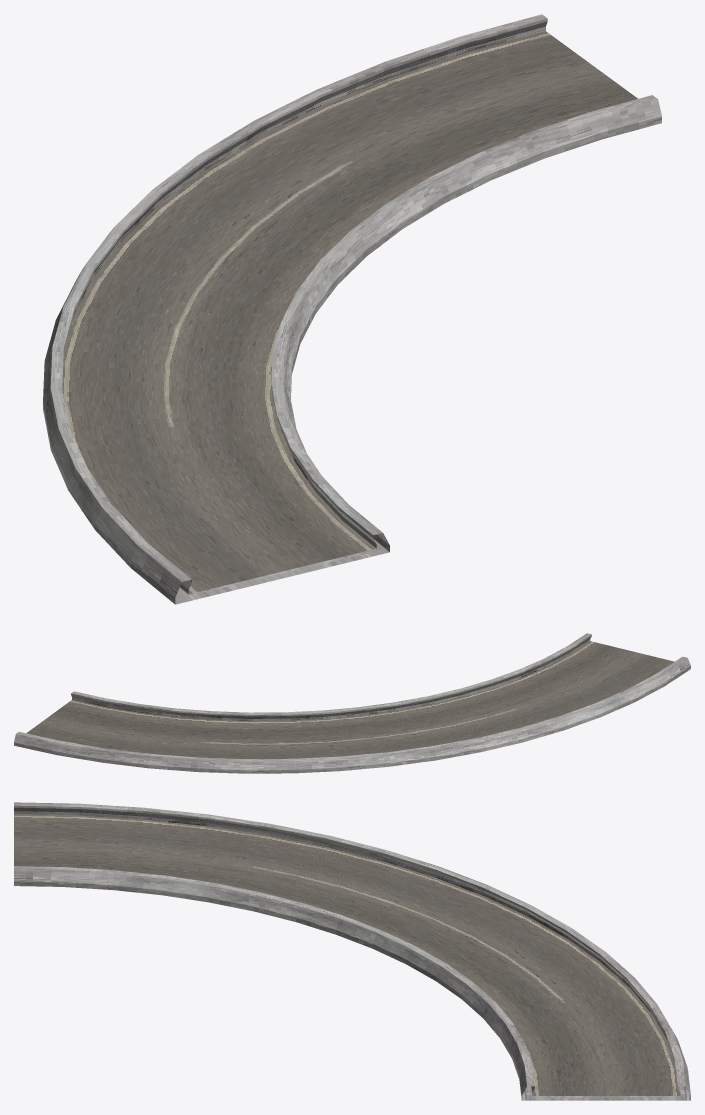
File: road-Turn-Flat-Flat-Even-Right-Size4.glb
3 renders of one model, top to bottom at view 1: azimuth 30°, elevation 25°; view 2: azimuth 150°, elevation 25°; view 3: azimuth 270°, elevation 25°, orthographic. The views are drawn at different scales.
Parts seen in each view (by area): view 1: road-Turn-Flat-Flat-Even-Right-Size4; view 2: road-Turn-Flat-Flat-Even-Right-Size4; view 3: road-Turn-Flat-Flat-Even-Right-Size4.
Part boxes in pixels (x1,y1,x2,y2): road-Turn-Flat-Flat-Even-Right-Size4: (43, 14, 661, 604); road-Turn-Flat-Flat-Even-Right-Size4: (14, 633, 690, 773); road-Turn-Flat-Flat-Even-Right-Size4: (14, 802, 690, 1100).
Size of the model in its own units: 4 by 0.0938 by 4.
2 materials, 2 textured.
